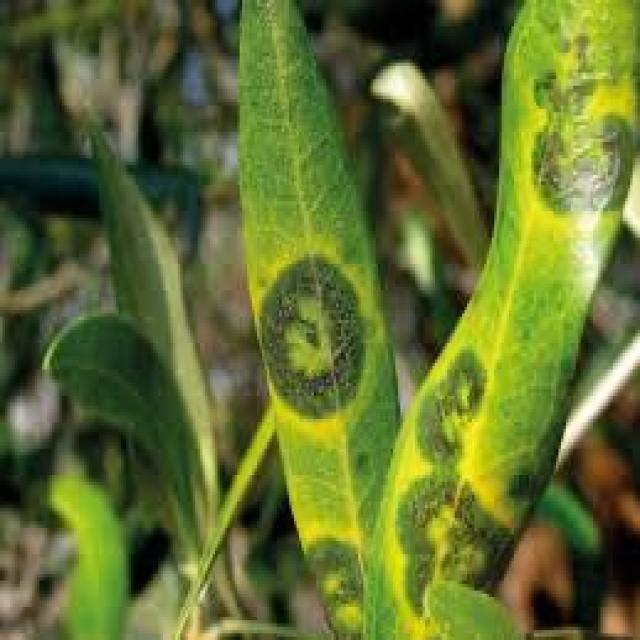OlivePeacockSpot: (363, 0, 635, 637), (240, 0, 398, 610)
